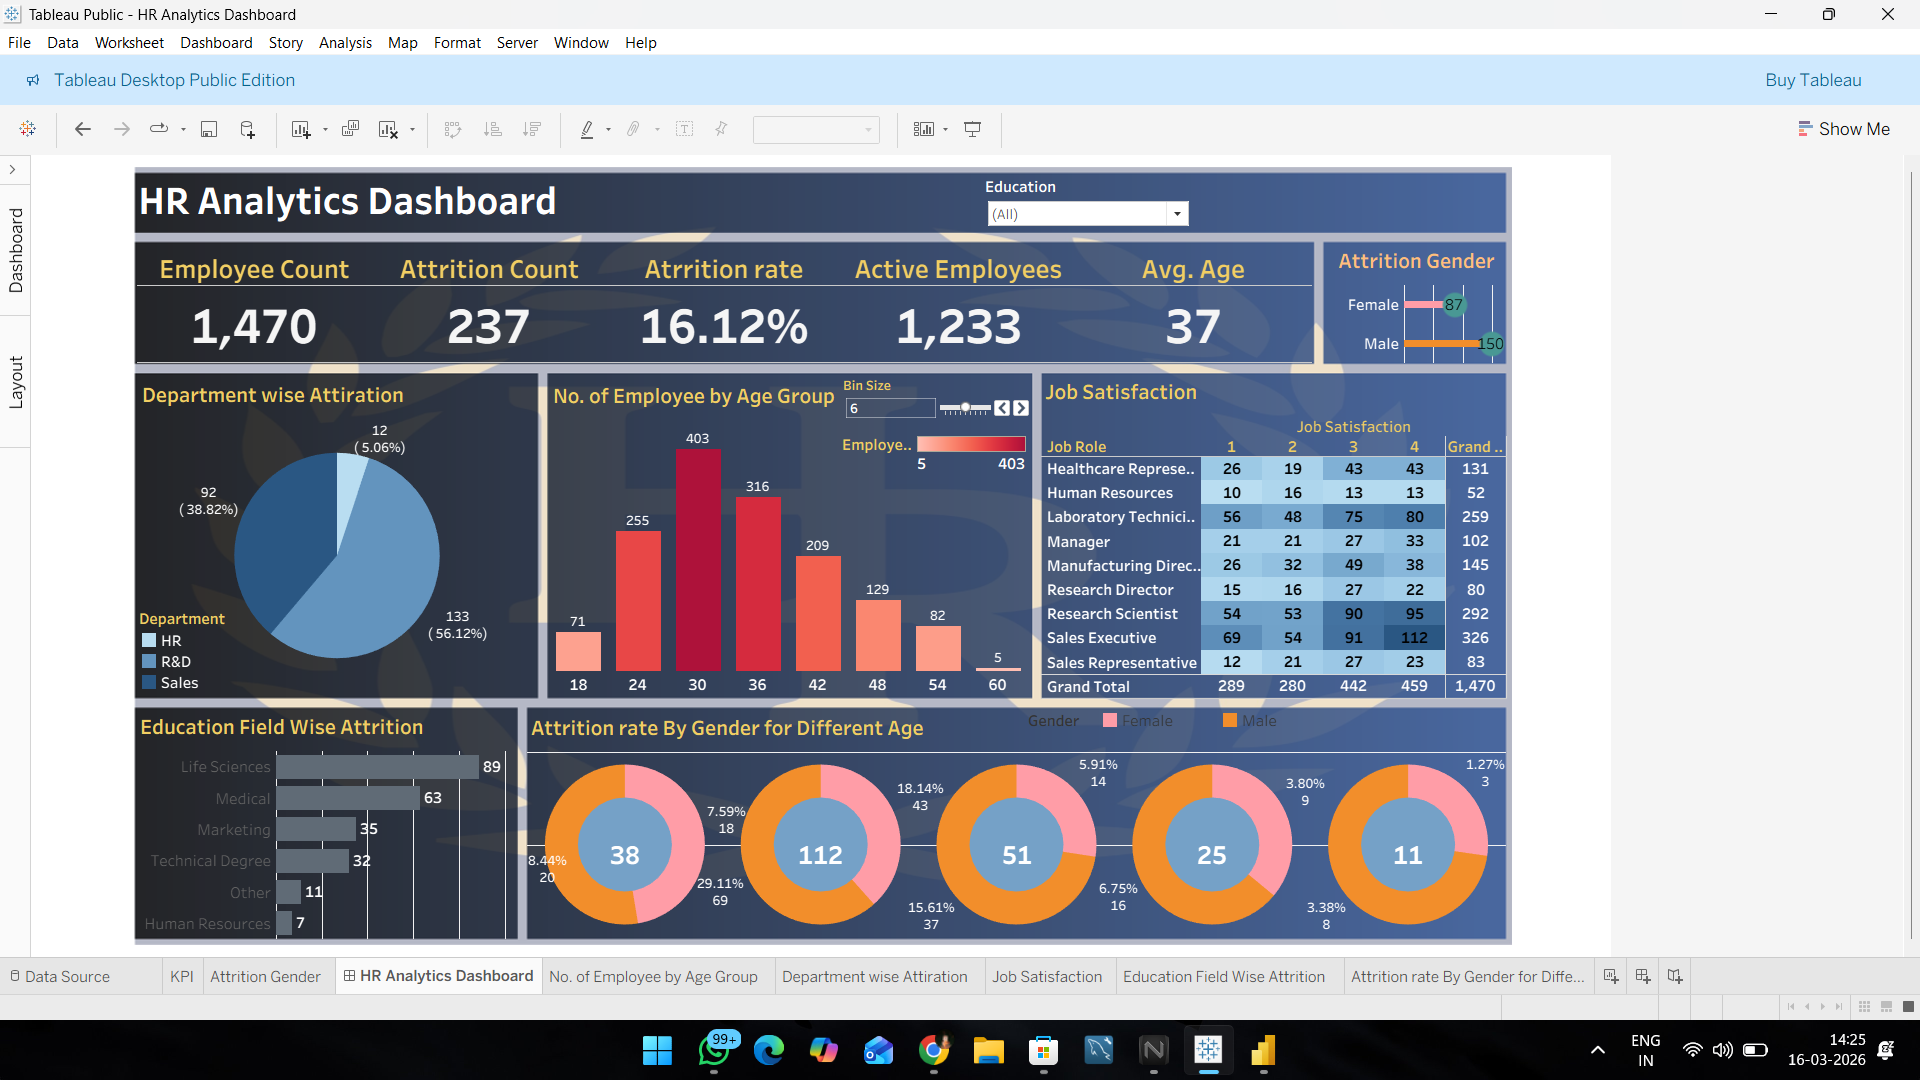

The dashboard page shown, as its layout file describes it:
{"tool":"tableau","page":{"name":"HR Analytics Dashboard","canvas":[1000,1000],"units":"permille","ordinal":0},"visuals":[{"type":"image","param":"Image/HR background.pptx.png","box":[5.1,10,989.9,980]},{"type":"text","box":[65.8,17.5,408.9,74.8]},{"type":"filter","title":"Department wise Attiration","param":"[federated.1srbpx20p1sywz149u7uv0fcxb0i].[none:Education:nk]","box":[603.8,26.2,131,69.8]},{"type":"worksheet","title":"Attrition Gender","mark":"Automatic","rows":["Gender"],"cols":["Calculation_1535516926332928","Calculation_1535516926332928"],"box":[818.4,108.5,117.1,150.9]},{"type":"worksheet","title":"KPI","mark":"Automatic","box":[67.1,112.2,743.7,147.1]},{"type":"worksheet","title":"Job Satisfaction","mark":"Square","rows":["Job Role"],"cols":["Job Satisfaction"],"box":[639.2,271.8,294.9,406.5]},{"type":"worksheet","title":"Department wise Attiration","mark":"Pie","box":[67.7,275.6,251.9,394]},{"type":"parameter","param":"[Parameters].[Parameter 1]","box":[513.9,275.6,119.6,83.5]},{"type":"worksheet","title":"No. of Employee by Age Group","mark":"Automatic","rows":["Employee Count"],"cols":["Age (bin)"],"box":[327.9,276.8,303.2,397.8]},{"type":"legend","title":"No. of Employee by Age Group","param":"[federated.1srbpx20p1sywz149u7uv0fcxb0i].[sum:Employee Count:qk]","box":[512.7,345.4,119.6,47.4]},{"type":"legend","title":"Department wise Attiration","param":"[federated.1srbpx20p1sywz149u7uv0fcxb0i].[none:Department:nk]","box":[68.4,564.8,63.9,108.5]},{"type":"worksheet","title":"Education Field Wise Attrition","mark":"Automatic","rows":["Education Field"],"cols":["Calculation_1535516926332928"],"box":[66.5,689.5,240.5,288]},{"type":"worksheet","title":"Attrition rate By Gender for Different Age","mark":"Pie","rows":["Calculation_1535516953198596","Calculation_1535516953198596"],"cols":["CF_age band"],"box":[313.9,690.8,619.6,284.3]},{"type":"legend","title":"Attrition Gender","param":"[federated.1srbpx20p1sywz149u7uv0fcxb0i].[none:Gender:nk]","box":[631,692,201.3,43.6]}]}

Visuals, with their boxes on the dashboard's canvas, which has no fixed pixel size, in thousandths of its width and height (x1, y1, x2, y2). These are canvas units, not pixel positions in the 1920x1080 screenshot, which may show the page scaled, cropped or inside an application window:
image: (5, 10, 995, 990)
text: (66, 18, 475, 92)
"Department wise Attiration" filter: (604, 26, 735, 96)
"Attrition Gender" worksheet: (818, 108, 936, 259)
"KPI" worksheet: (67, 112, 811, 259)
"Job Satisfaction" worksheet (Square marks): (639, 272, 934, 678)
"Department wise Attiration" worksheet (Pie marks): (68, 276, 320, 670)
parameter: (514, 276, 634, 359)
"No. of Employee by Age Group" worksheet: (328, 277, 631, 675)
"No. of Employee by Age Group" legend: (513, 345, 632, 393)
"Department wise Attiration" legend: (68, 565, 132, 673)
"Education Field Wise Attrition" worksheet: (66, 690, 307, 978)
"Attrition rate By Gender for Different Age" worksheet (Pie marks): (314, 691, 934, 975)
"Attrition Gender" legend: (631, 692, 832, 736)
